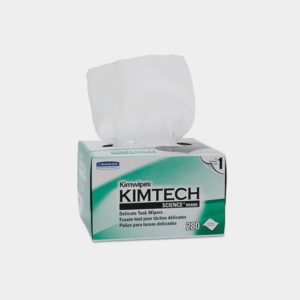Tissue: (84, 52, 196, 149)
